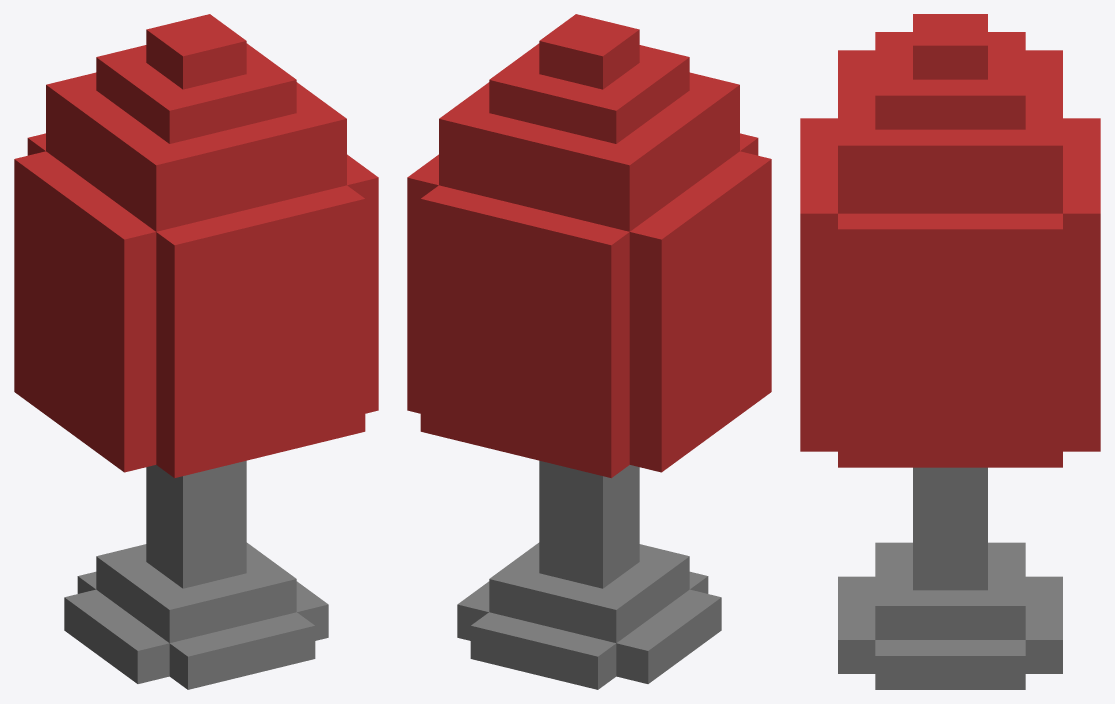
File: lamp red.obj
The picture shows the model from 3 angles, left to right: view 1: azimuth 30°, elevation 25°; view 2: azimuth 150°, elevation 25°; view 3: azimuth 270°, elevation 25°; orthographic projection. The views are drawn at different scales.
Parts seen in each view (by area): view 1: lamp red; view 2: lamp red; view 3: lamp red.
Part boxes in pixels (x1,y1,x2,y2): lamp red: [14, 14, 378, 689]; lamp red: [407, 14, 771, 689]; lamp red: [800, 14, 1100, 689].
Bounding box in the file's own units: 8 × 18 × 8.
